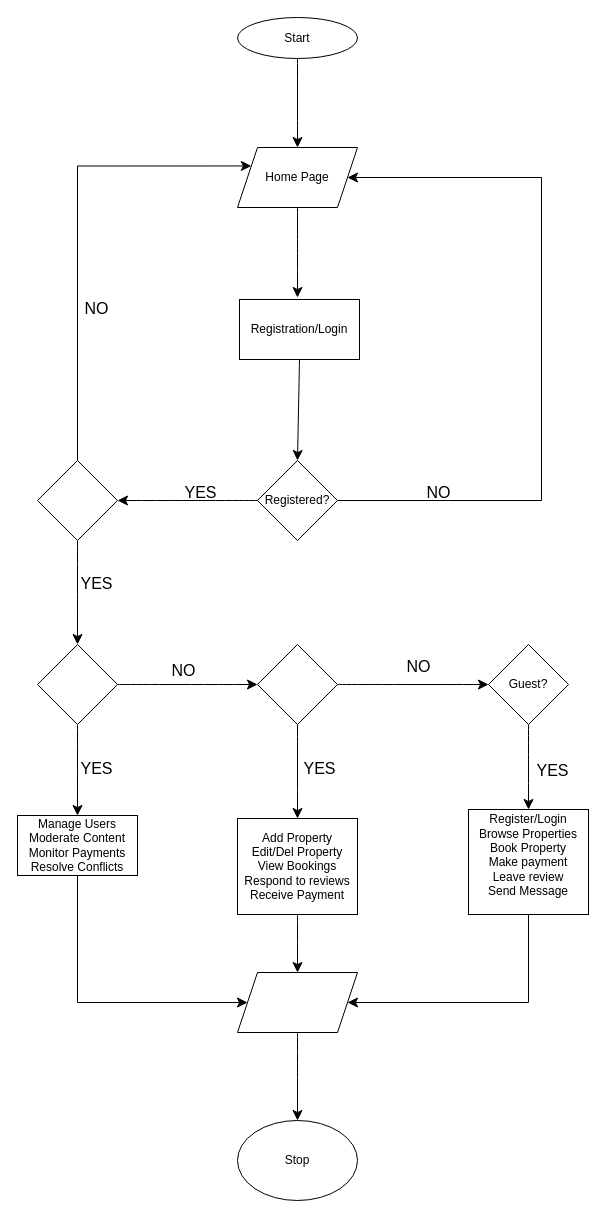
This 606x1218 diagram has some shape labels left out. Here are the shapes that lost their labels. From the top down, the centre of each, then its label:
At point (77, 500): "Logged in?".
At point (77, 684): "Admin?".
At point (297, 684): "Host?".
At point (297, 1002): "Reports".
